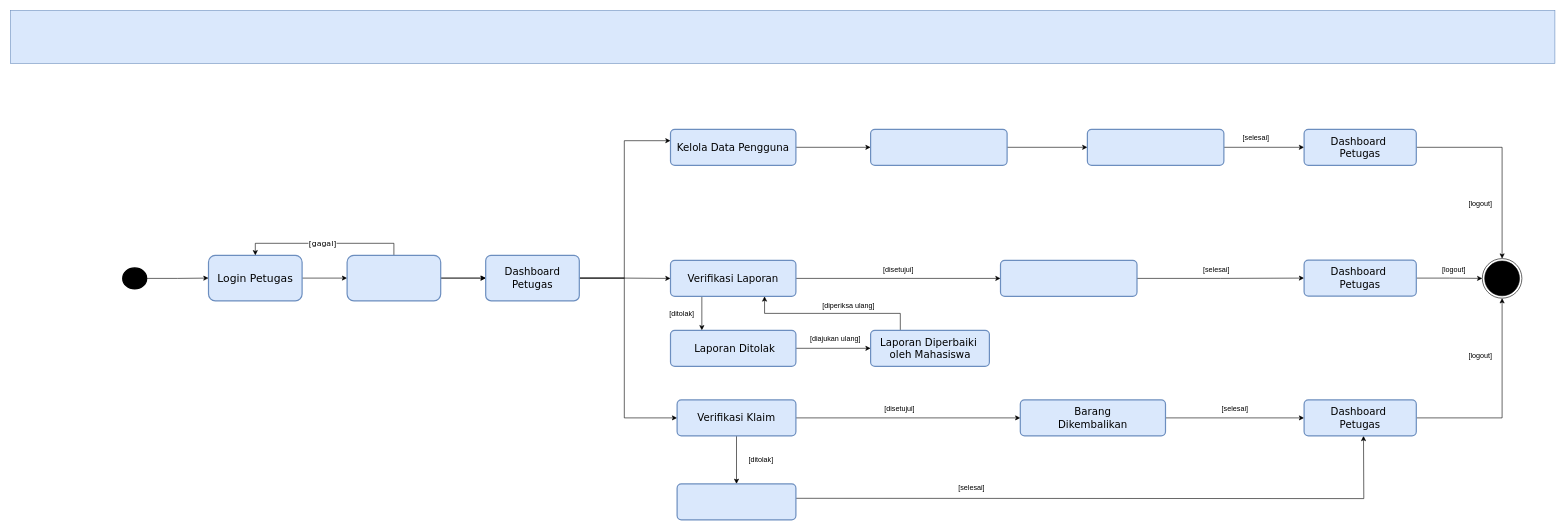
Some shapes in this 1565 by 531 pixel diagram are drawn without their labels. The centre of each missing label's shape, as x and y in pixels:
"Klaim Ditolak" belongs at [736,501].
"Laporan Dipublikasikan" belongs at [1068,278].
"Simpan Perubahan" belongs at [1155,147].
"State Machine Diagram - Petugas" belongs at [782,36].
"Tambah / Edit / Hapus Data Pengguna" belongs at [938,147].
"Verifikasi Username & Password" belongs at [393,277].
